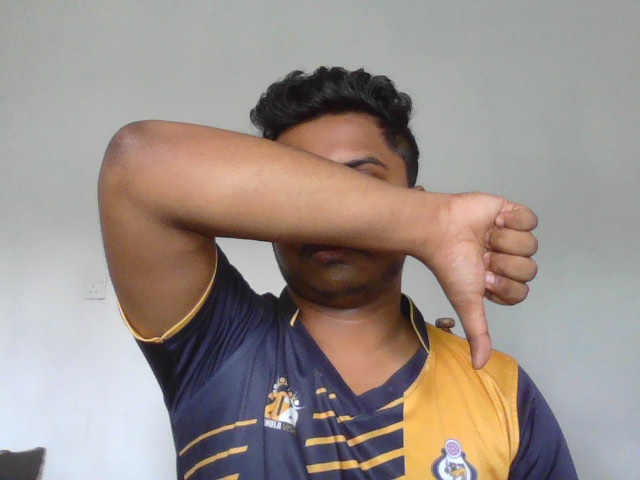Disagree: (441, 188, 537, 371)
